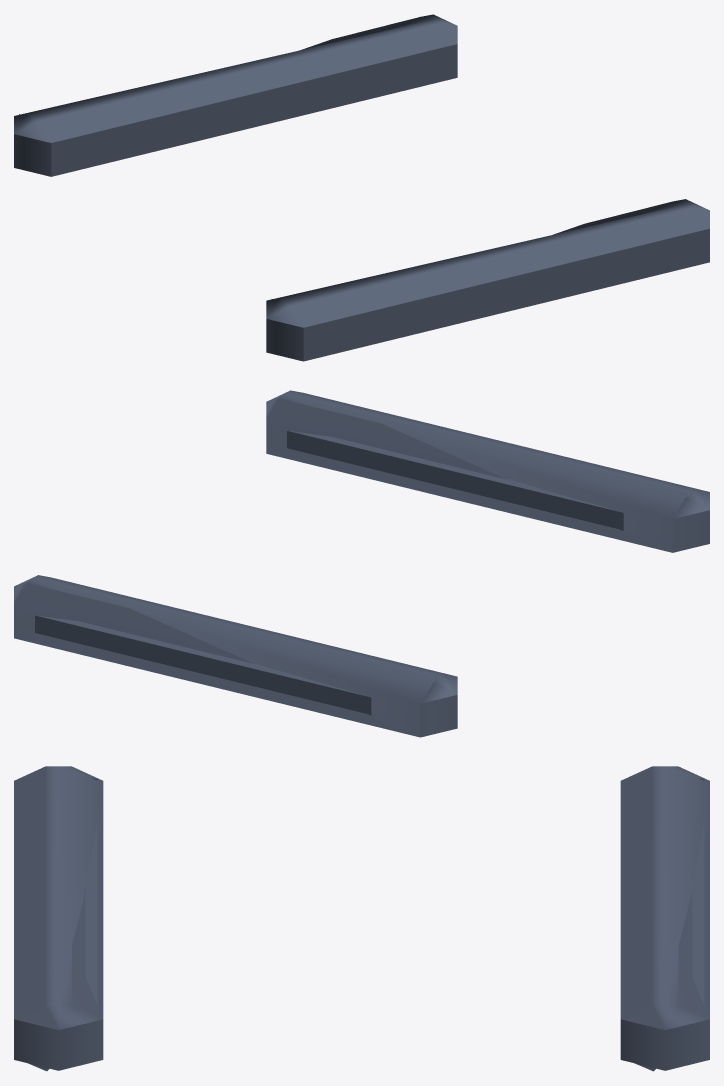
File: Luces_Nueva.fbx
3 views of the same model, one above another, from view 1: azimuth 30°, elevation 25°; view 2: azimuth 150°, elevation 25°; view 3: azimuth 270°, elevation 25° (orthographic). The views are drawn at different scales.
Parts seen in each view (by area): view 1: pasted__pCylinder152, pasted__pCylinder154; view 2: pasted__pCylinder154, pasted__pCylinder152; view 3: pasted__pCylinder152, pasted__pCylinder154.
Part boxes in pixels (box(x1,y1,x2,y2)): pasted__pCylinder152: box(14, 14, 457, 176); pasted__pCylinder154: box(266, 199, 709, 361); pasted__pCylinder154: box(266, 390, 709, 552); pasted__pCylinder152: box(14, 575, 457, 737); pasted__pCylinder152: box(620, 766, 709, 1071); pasted__pCylinder154: box(14, 766, 103, 1071).
Bounding box in the file's own units: 2.6 × 0.3104 × 2.94.
